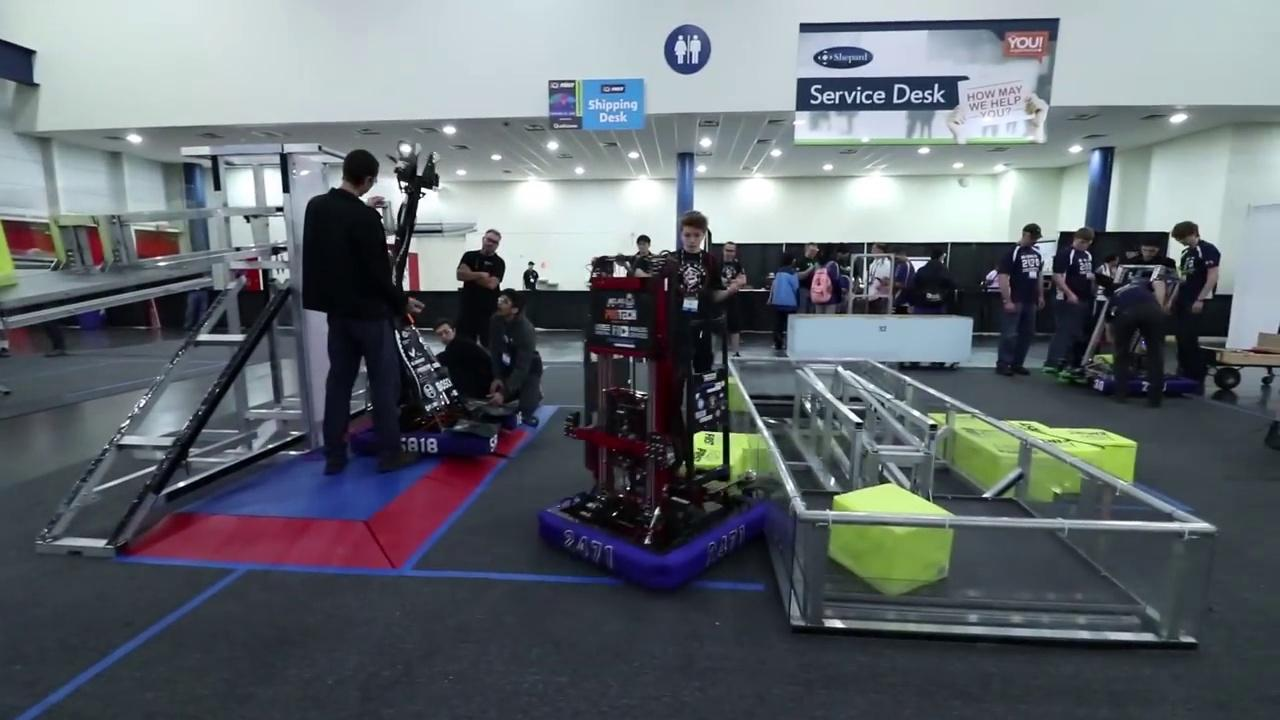robot: (533, 247, 772, 602), (347, 307, 511, 462)
